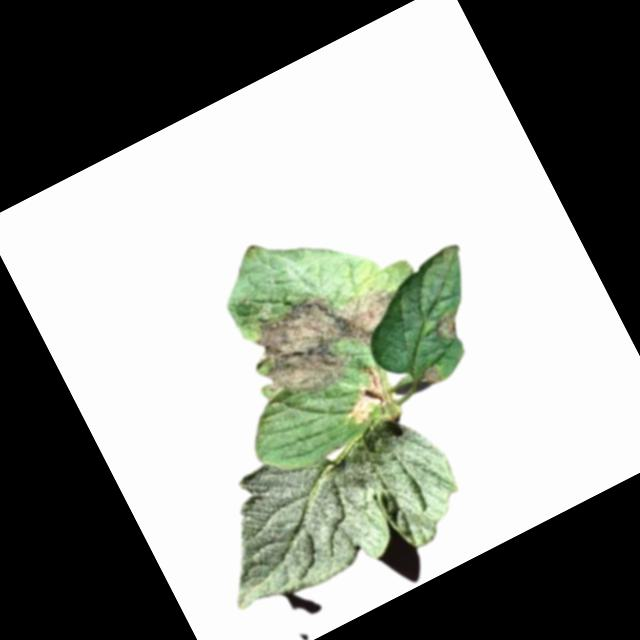Late_blight: (228, 256, 421, 415), (329, 360, 397, 428), (427, 304, 468, 345), (414, 362, 444, 390)
healthy: (184, 388, 478, 633)
